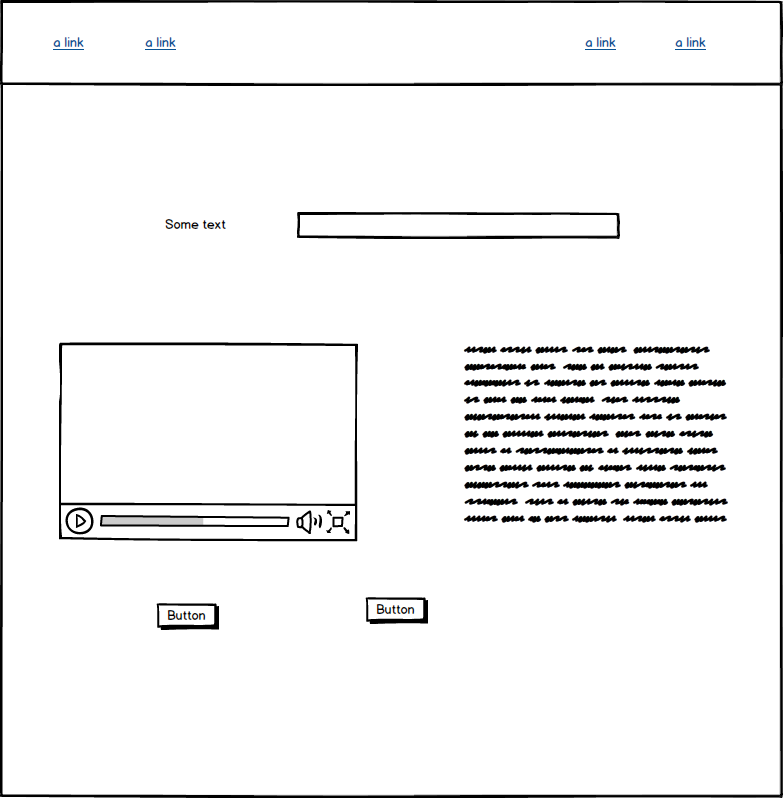button: (151, 596, 226, 633), (361, 590, 429, 628)
input: (292, 207, 631, 244)
label: (157, 211, 233, 234)
navlink: (376, 702, 412, 733), (165, 708, 209, 729), (137, 33, 178, 54), (581, 33, 620, 54), (47, 33, 90, 52), (671, 35, 711, 49)
p: (457, 338, 745, 540)
video: (54, 339, 367, 547)
